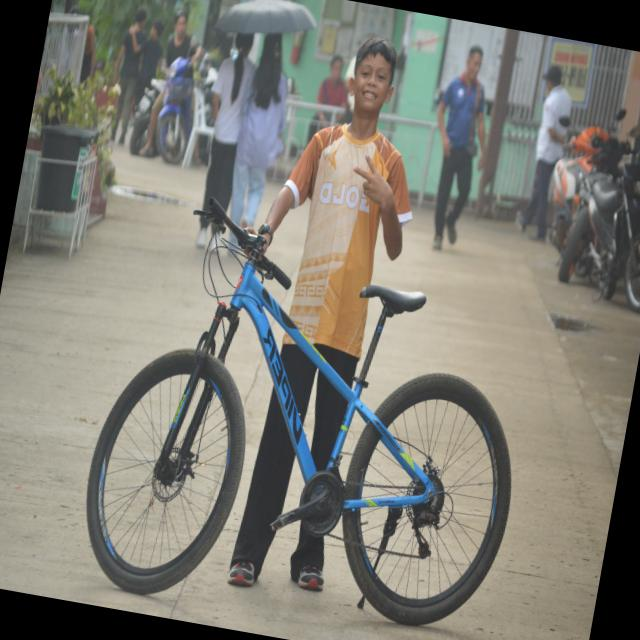person: (260, 37, 410, 386), (229, 33, 286, 227), (432, 46, 484, 250), (516, 65, 571, 241), (202, 34, 254, 210), (110, 7, 146, 144), (133, 20, 163, 105), (165, 10, 200, 70), (316, 55, 348, 108)
